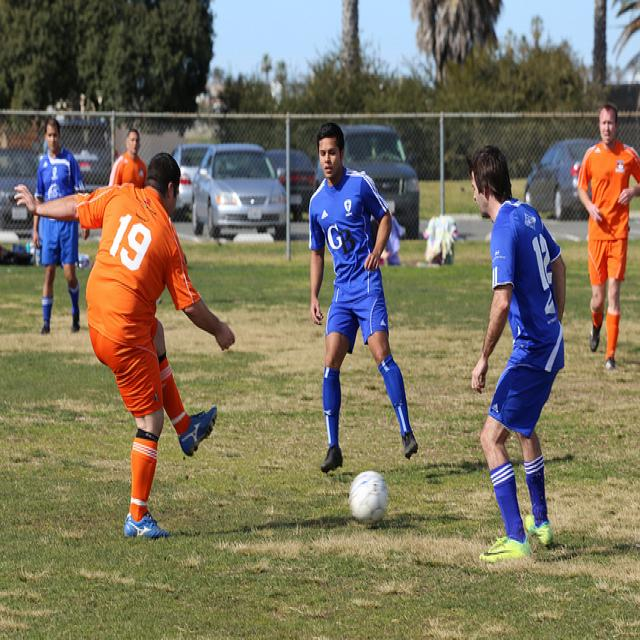Vehicle: (191, 140, 286, 242), (346, 128, 420, 242), (523, 138, 601, 222), (56, 115, 112, 184), (266, 150, 316, 223), (172, 142, 212, 223), (0, 176, 35, 231), (0, 148, 41, 194)
